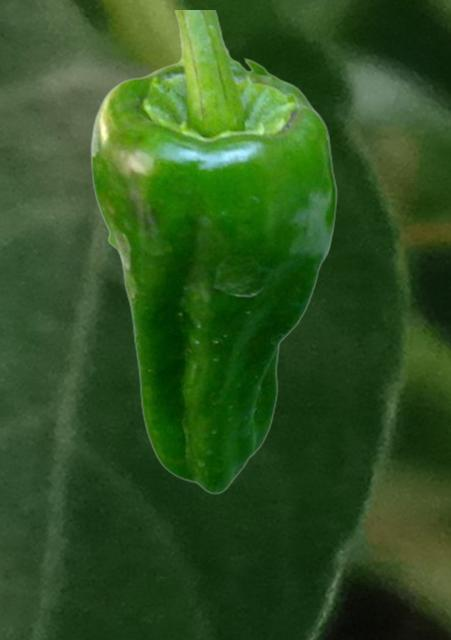bell_pepper: (89, 10, 337, 494)
